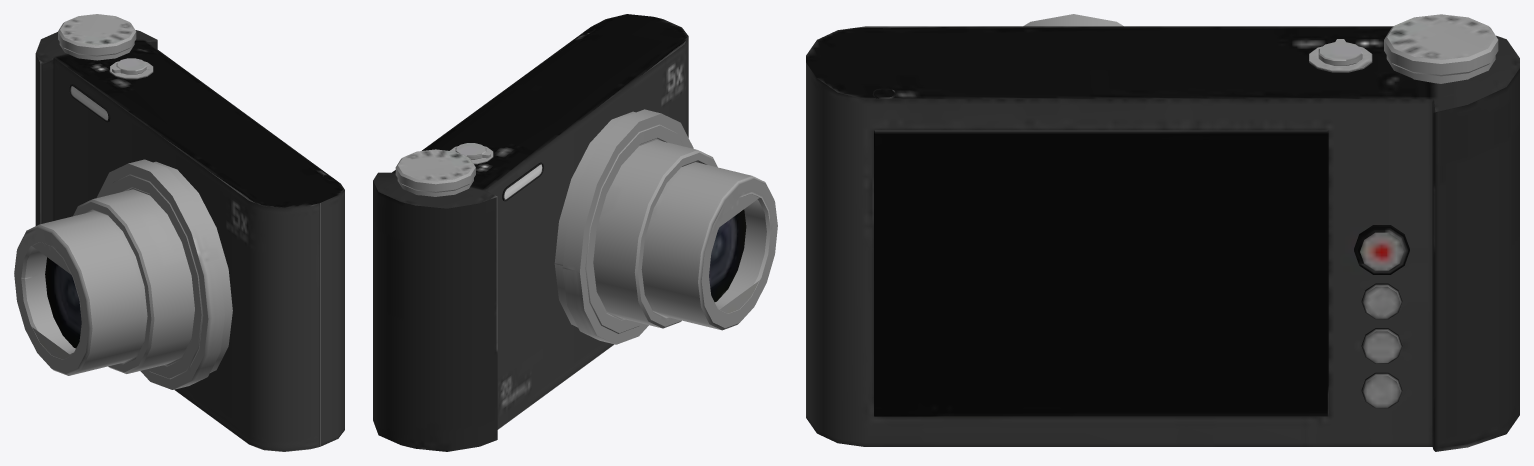
The model's file is Digital_Camera.glb.
3 views of the same model, side by side, from view 1: azimuth 30°, elevation 25°; view 2: azimuth 150°, elevation 25°; view 3: azimuth 270°, elevation 25° (orthographic). The views are drawn at different scales.
Parts seen in each view (by area): view 1: Digital_Camera; view 2: Digital_Camera; view 3: Digital_Camera.
Boxes of the visible parts, <box> form: Digital_Camera: <box>14,14,344,451</box>; Digital_Camera: <box>373,14,777,451</box>; Digital_Camera: <box>806,14,1519,451</box>.
Size of the model in its own units: 0.0814 by 0.0875 by 0.15.
1 material, 1 textured.
